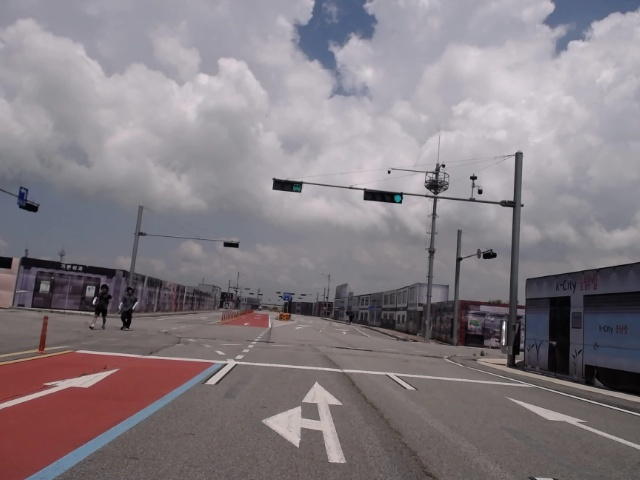straight_green_4: (366, 187, 404, 205)
